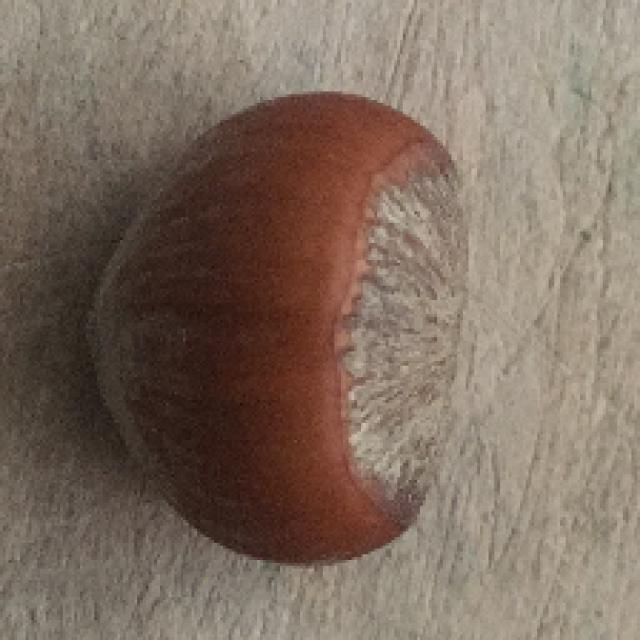qualityHazelnut: (86, 93, 469, 567)
